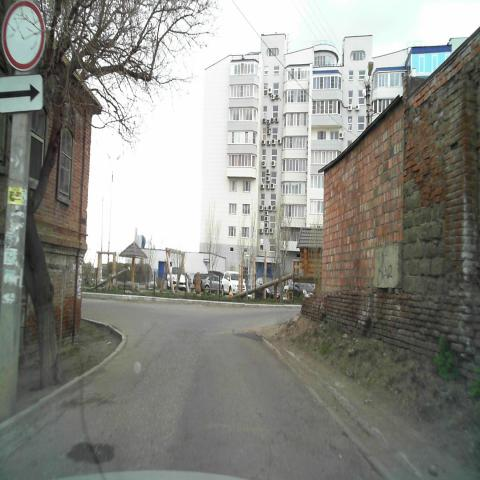3_2: (0, 0, 47, 73)
8_3_1: (0, 74, 44, 113)
